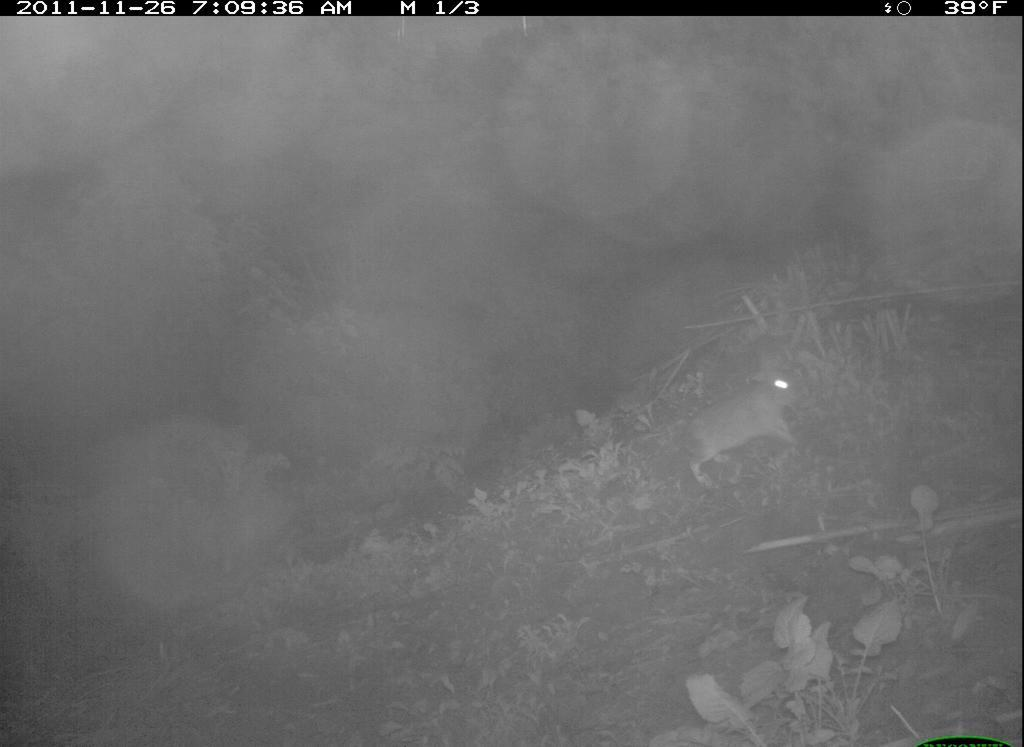rabbit: (666, 345, 813, 489)
